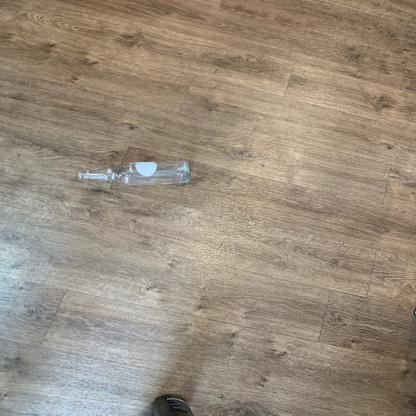trash: (76, 157, 190, 191)
